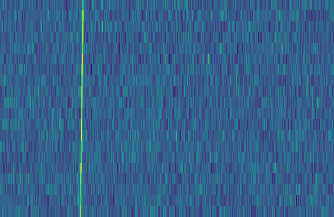signal: (74, 0, 86, 217)
